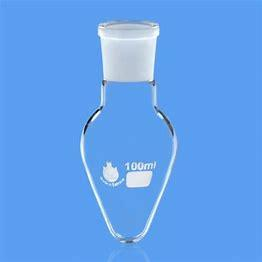Pear shaped flask: (69, 17, 182, 248)
